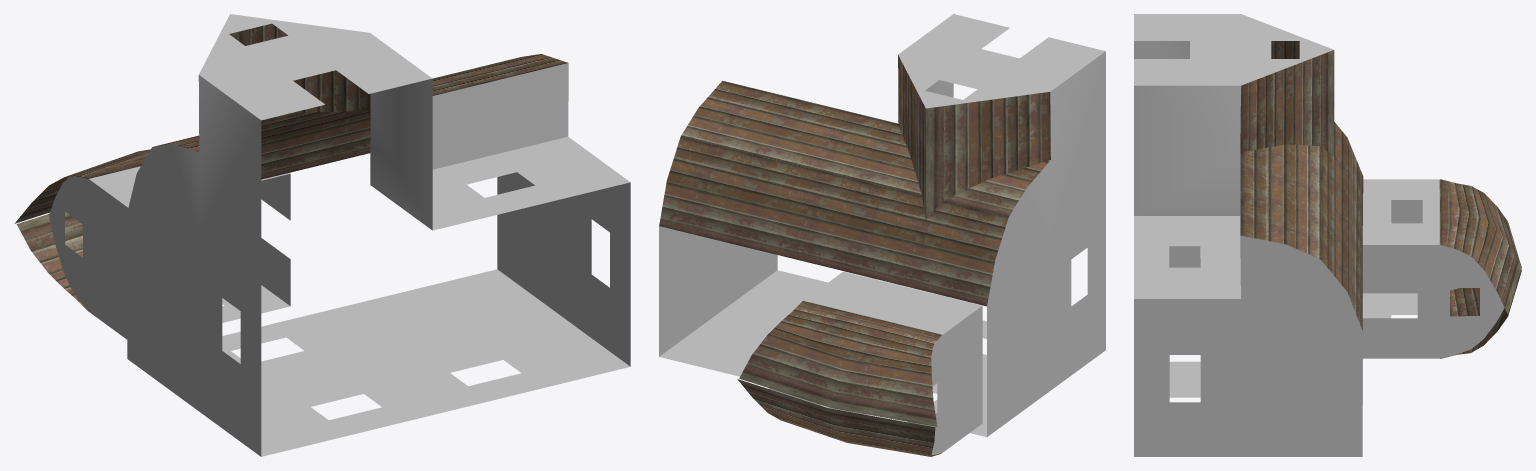
Rendered from Pirate_House_Interior_Type02_F.fbx.
3 renders of one model, left to right at view 1: azimuth 30°, elevation 25°; view 2: azimuth 150°, elevation 25°; view 3: azimuth 270°, elevation 25°, orthographic. The views are drawn at different scales.
Visible parts, largest first — view 1: Pirate_House_Interior_Type02_F; view 2: Pirate_House_Interior_Type02_F; view 3: Pirate_House_Interior_Type02_F.
Boxes of the visible parts, left/top/right/bottom form: Pirate_House_Interior_Type02_F: left=14, top=14, right=630, bottom=456; Pirate_House_Interior_Type02_F: left=659, top=14, right=1105, bottom=456; Pirate_House_Interior_Type02_F: left=1134, top=14, right=1521, bottom=456.
Size of the model in its own units: 14.9 by 12.03 by 14.66.
